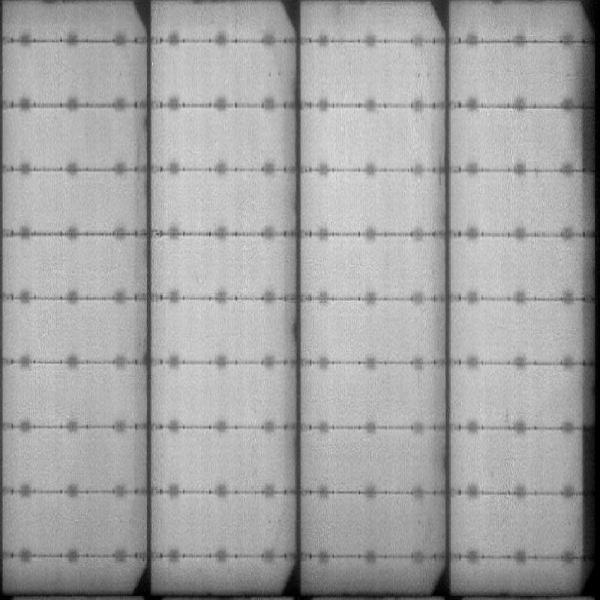black_border: (577, 22, 597, 177), (580, 419, 600, 566)
